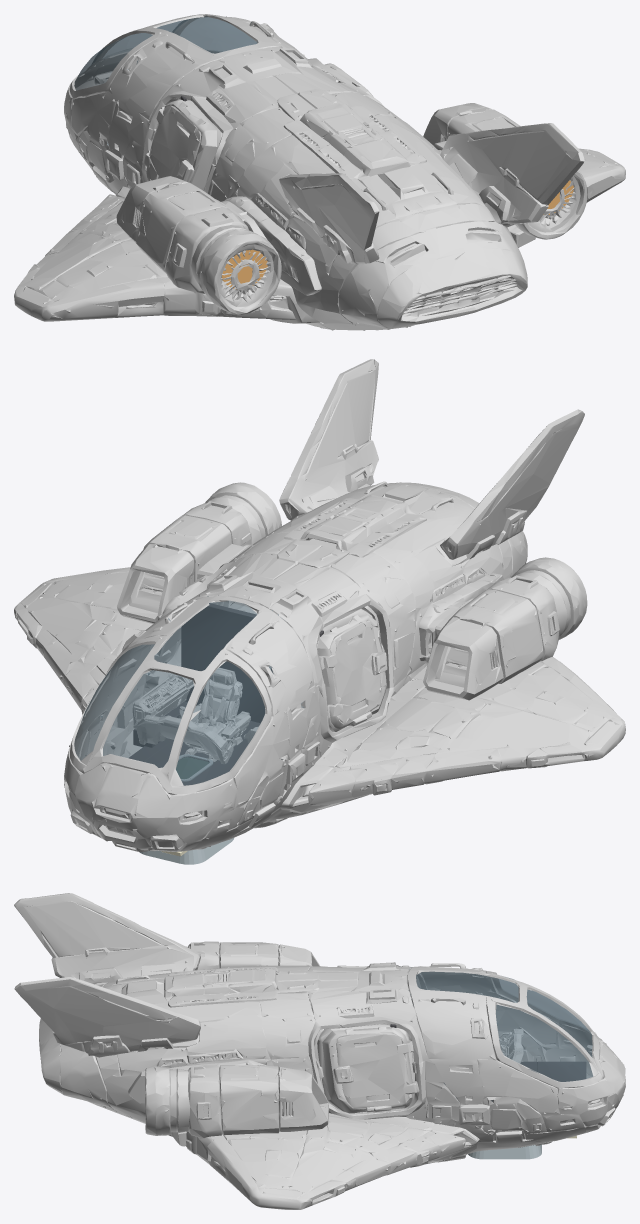
The model's file is Ship.fbx.
3 views of the same model, one above another, from view 1: azimuth 30°, elevation 25°; view 2: azimuth 150°, elevation 25°; view 3: azimuth 270°, elevation 25° (orthographic). The views are drawn at different scales.
Parts seen in each view (by area): view 1: Body__mx_ship, Body__glass, Body__glow; view 2: Body__mx_ship, Body__glass, Body__interior, Body__mx_cockpit_seat, Body__mx_cockpit_dash, Body__mx_cockpit_console, Body__metal; view 3: Body__mx_ship, Body__glass, Body__interior, Body__metal, Body__mx_cockpit_dash.
Part boxes in pixels (<box>): Body__mx_ship: <box>14,14,625,330</box>; Body__glass: <box>74,15,257,145</box>; Body__glow: <box>221,180,573,289</box>; Body__mx_ship: <box>14,359,625,851</box>; Body__glass: <box>74,596,304,785</box>; Body__interior: <box>129,603,323,785</box>; Body__mx_cockpit_seat: <box>184,667,250,761</box>; Body__mx_cockpit_dash: <box>133,715,233,764</box>; Body__mx_cockpit_console: <box>132,673,304,744</box>; Body__metal: <box>139,666,270,864</box>; Body__mx_ship: <box>14,893,625,1209</box>; Body__glass: <box>408,969,592,1101</box>; Body__interior: <box>390,1024,586,1101</box>; Body__metal: <box>468,1144,541,1159</box>; Body__mx_cockpit_dash: <box>499,1028,523,1063</box>.
Size of the model in its own units: 9.24 by 3.9 by 10.
